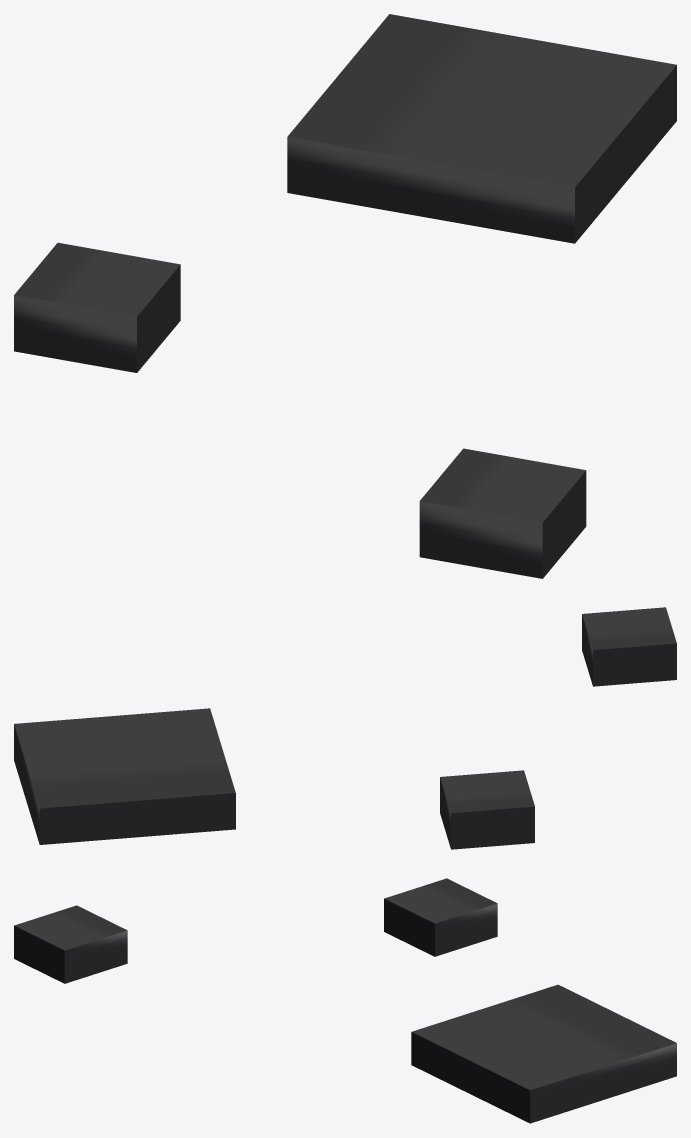
The model's file is rubble_02.gltf.
3 views of the same model, one above another, from view 1: azimuth 30°, elevation 25°; view 2: azimuth 150°, elevation 25°; view 3: azimuth 270°, elevation 25° (orthographic). The views are drawn at different scales.
Visible parts, largest first — view 1: rubble_02; view 2: rubble_02; view 3: rubble_02.
Part boxes in pixels (x1,y1,x2,y2): rubble_02: [14, 14, 676, 578]; rubble_02: [14, 607, 676, 849]; rubble_02: [14, 878, 676, 1123].
Size of the model in its own units: 3.62 by 0.2654 by 4.79.
1 material, 1 textured.
